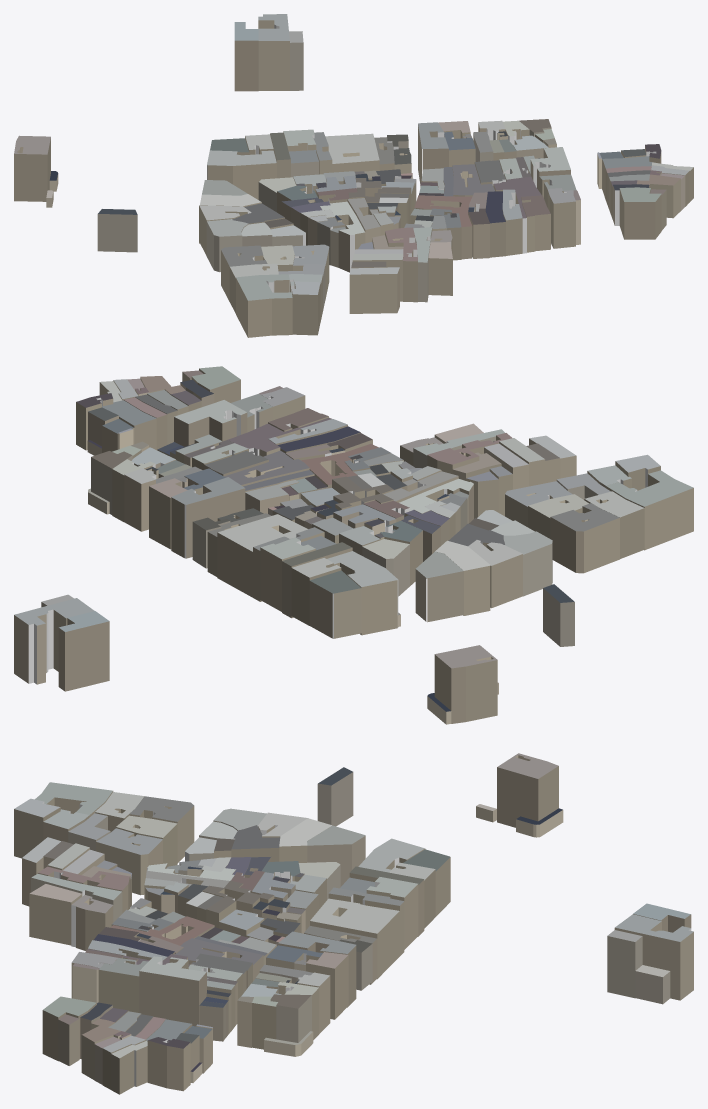
The picture shows the model from 3 angles, top to bottom: view 1: azimuth 30°, elevation 25°; view 2: azimuth 150°, elevation 25°; view 3: azimuth 270°, elevation 25°; orthographic projection. The views are drawn at different scales.
Visible parts, largest first — view 1: tuile; view 2: tuile; view 3: tuile.
Part boxes in pixels (x1,y1,x2,y2): tuile: (14, 14, 693, 337); tuile: (14, 366, 693, 724); tuile: (14, 753, 693, 1094).
Size of the model in its own units: 269 by 27.28 by 266.
